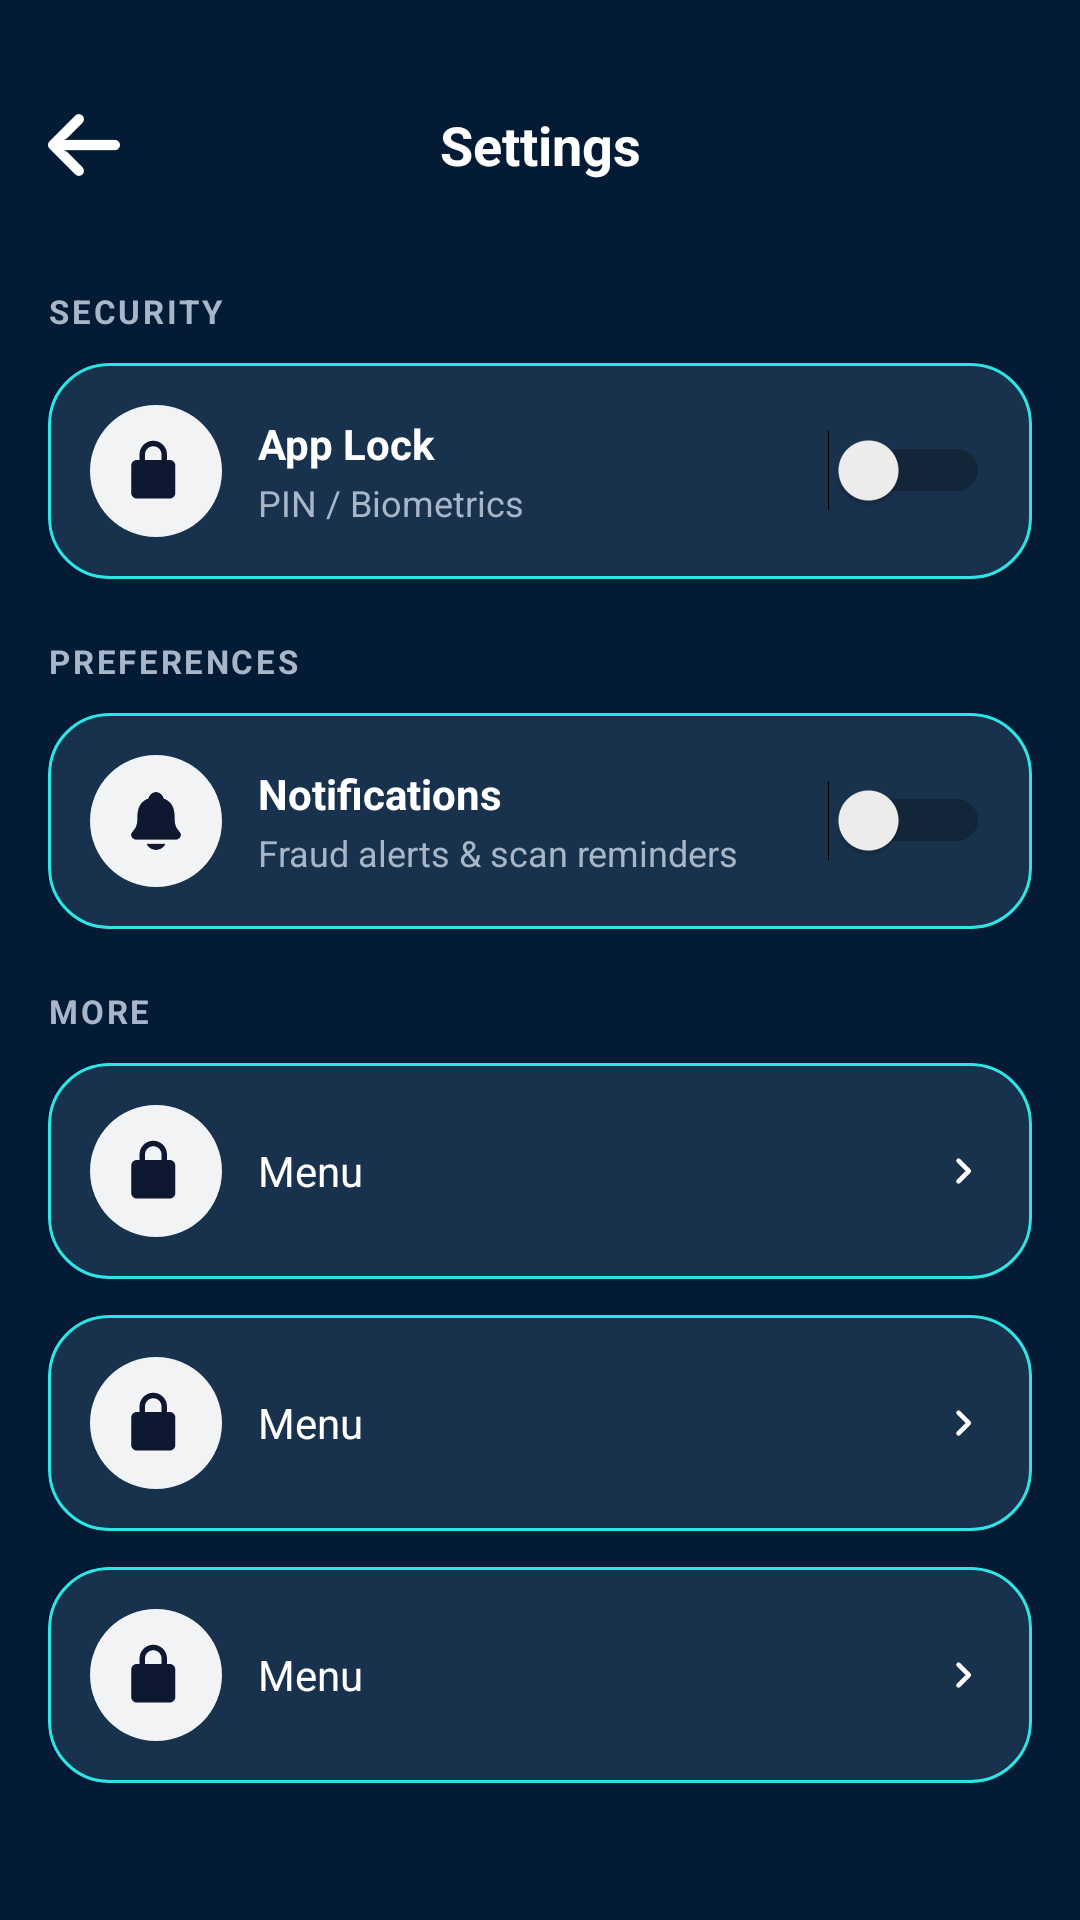

Icons on this 1080x1920 Android screen, each with its box as (x1, y1, x2, y2):
arrow back: (48, 114, 120, 176)
chevron right: (956, 1158, 971, 1184), (956, 1410, 971, 1436), (956, 1662, 971, 1688)
